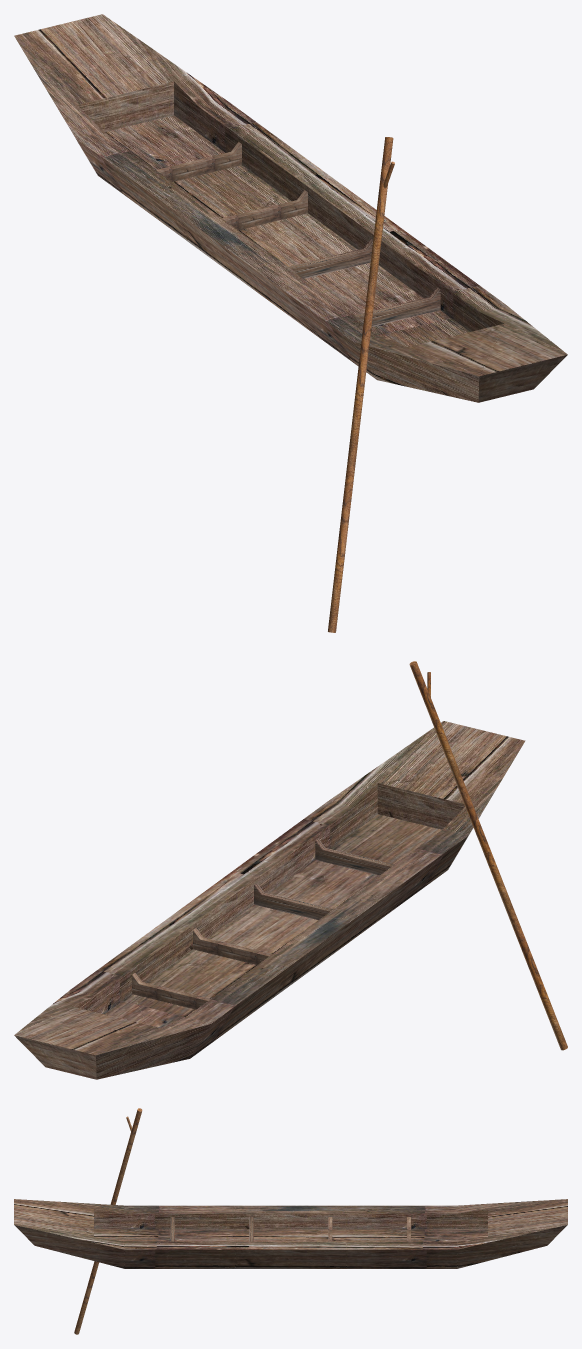
The model's file is ship.FBX.
3 renders of one model, top to bottom at view 1: azimuth 30°, elevation 25°; view 2: azimuth 150°, elevation 25°; view 3: azimuth 270°, elevation 25°, orthographic. The views are drawn at different scales.
Parts seen in each view (by area): view 1: 对象001, Box001, Cylinder001, Box005, Box004, Box002, Box006; view 2: 对象001, Box001, Cylinder001, Box006, Box002, Box004, Box005; view 3: Box001, 对象001, Cylinder001.
Part boxes in pixels (x1,y1,x2,y2): 对象001: [14, 14, 567, 376]; Box001: [75, 81, 567, 402]; Cylinder001: [328, 137, 393, 632]; Box005: [156, 141, 241, 181]; Box004: [222, 190, 307, 230]; Box002: [288, 238, 373, 278]; Box006: [355, 287, 440, 326]; 对象001: [14, 721, 525, 1055]; Box001: [14, 783, 468, 1079]; Cylinder001: [409, 661, 567, 1050]; Box006: [315, 838, 394, 875]; Box002: [254, 883, 332, 920]; Box004: [193, 928, 271, 964]; Box005: [132, 973, 210, 1009]; Box001: [14, 1209, 567, 1268]; 对象001: [14, 1199, 567, 1249]; Cylinder001: [74, 1108, 142, 1334].
Bounding box in the file's own units: 18.15 × 34.2 × 66.89.
8 materials, 8 textured.
